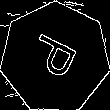P_SE: (25, 30, 85, 86)
